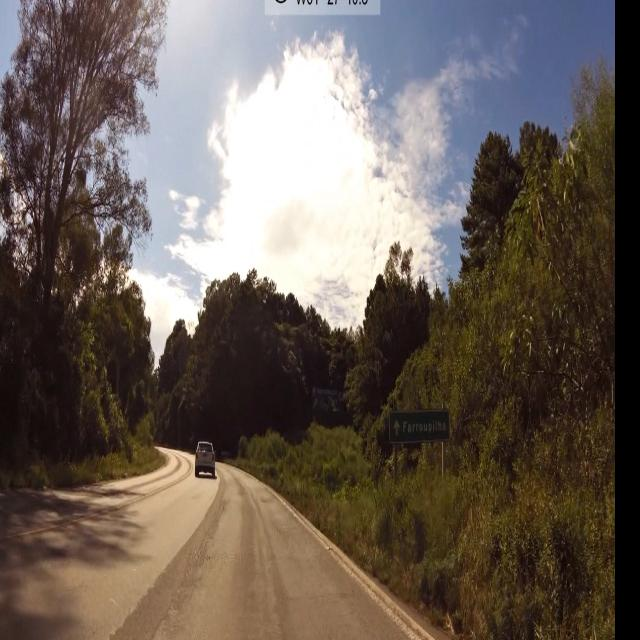I-4: (389, 405, 451, 448)
